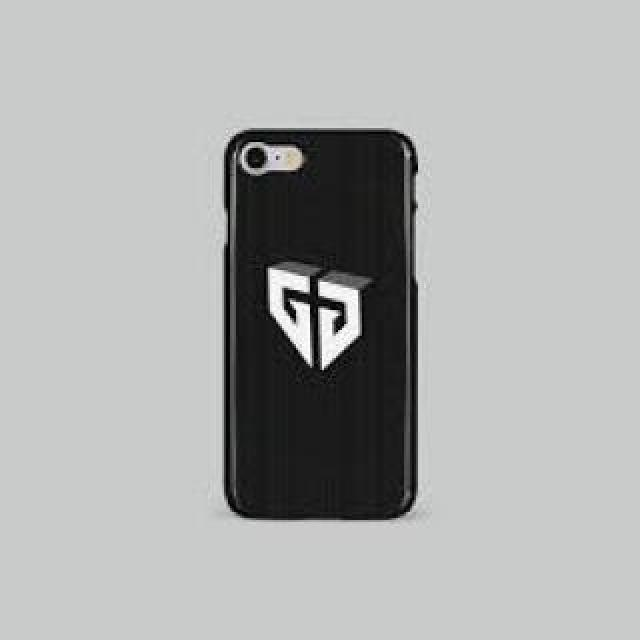smart phone: (215, 98, 465, 562)
